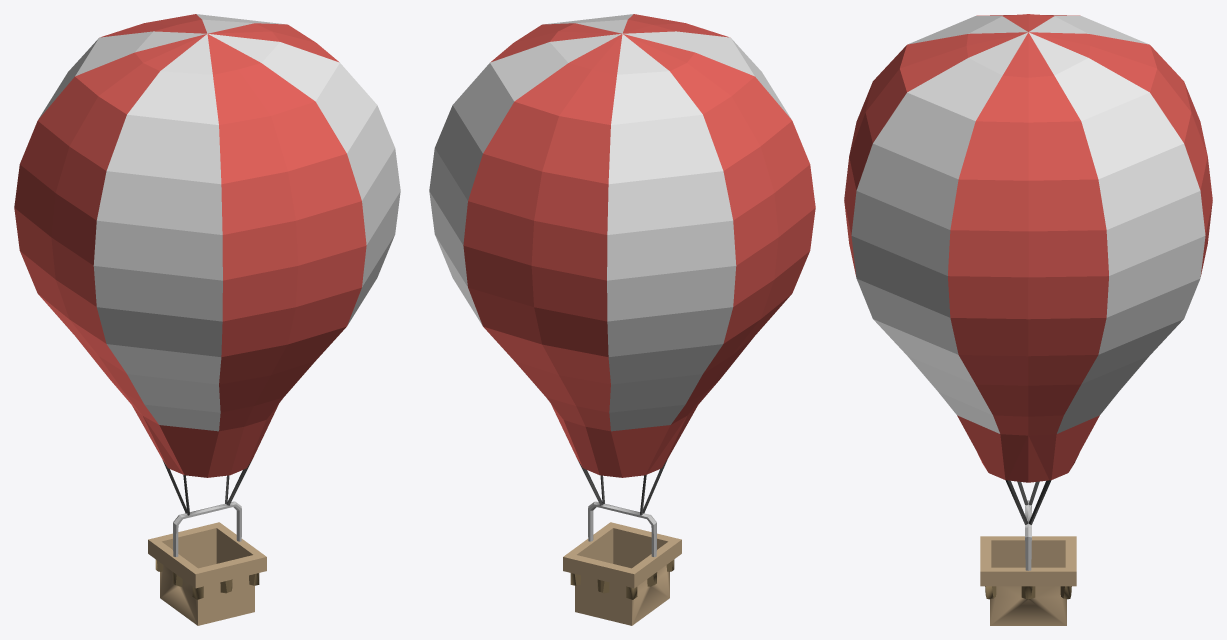
The model's file is Ballon.fbx.
The picture shows the model from 3 angles, left to right: view 1: azimuth 30°, elevation 25°; view 2: azimuth 150°, elevation 25°; view 3: azimuth 270°, elevation 25°; orthographic projection.
Visible parts, largest first — view 1: Cube; view 2: Cube; view 3: Cube.
Part boxes in pixels (bbox=[...]): Cube: bbox=[14, 14, 400, 625]; Cube: bbox=[429, 14, 815, 625]; Cube: bbox=[844, 14, 1212, 625].
Size of the model in its own units: 793 by 1387 by 799.
